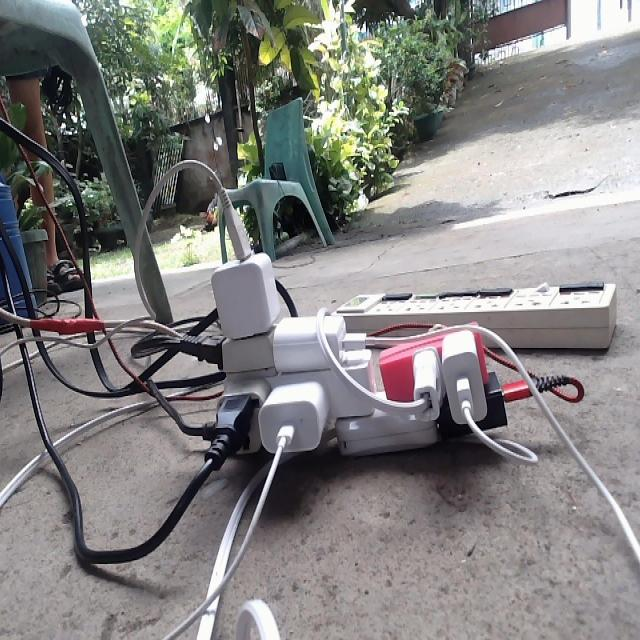-: (174, 192, 565, 473)
